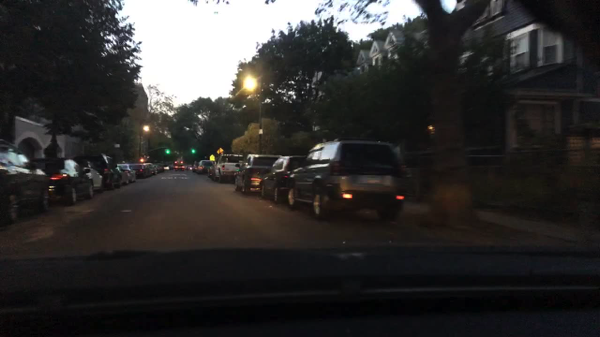car: (285, 140, 410, 222), (0, 139, 50, 228), (34, 157, 95, 208), (257, 156, 311, 203), (233, 154, 278, 195), (83, 154, 125, 190), (76, 162, 106, 196), (129, 164, 152, 178), (120, 164, 137, 181), (196, 160, 213, 172), (142, 163, 154, 173), (174, 162, 185, 171), (191, 161, 198, 171), (153, 163, 161, 171), (157, 163, 163, 171), (164, 165, 171, 171)
traffic light: (164, 148, 169, 154), (191, 148, 196, 154)
traffic sign: (216, 147, 224, 155), (210, 155, 215, 161)
truck: (214, 153, 247, 182)
